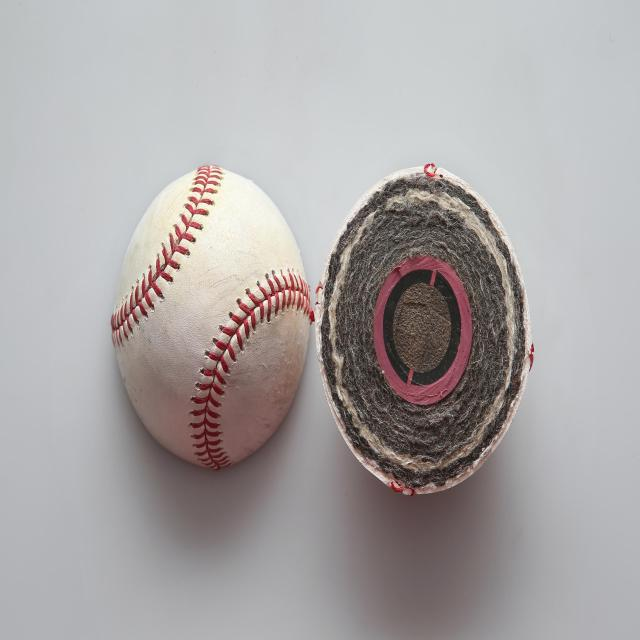baseball: (111, 165, 311, 474)
